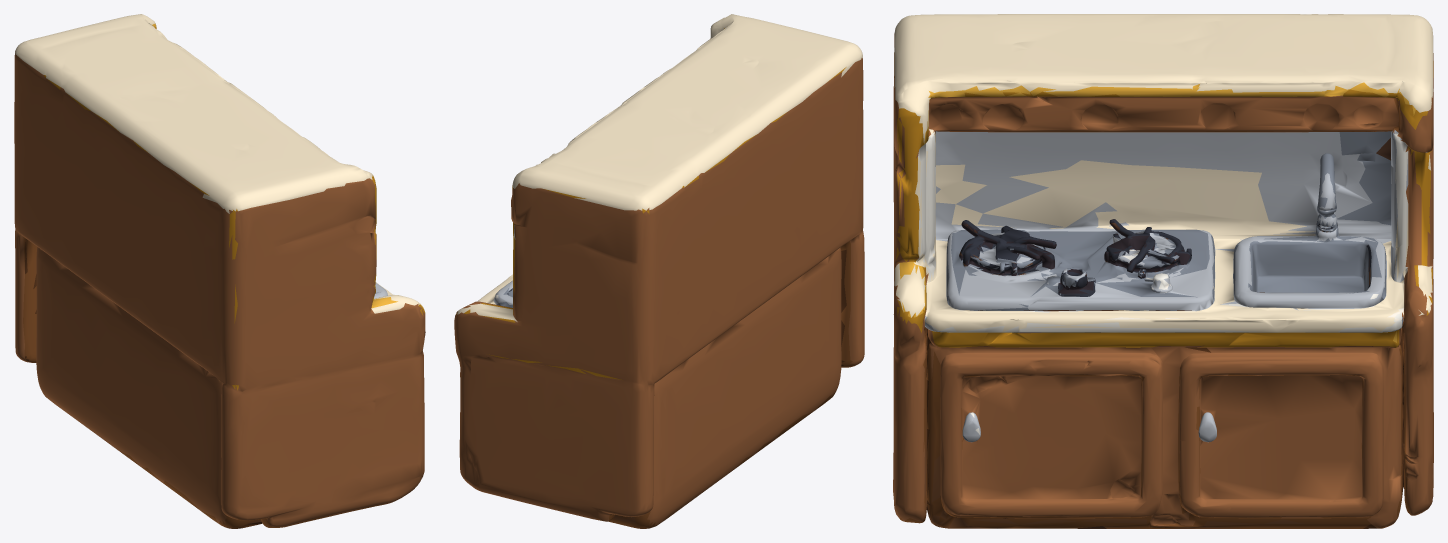
File: SM_kitchen_unit_wood.glb
3 renders of one model, left to right at view 1: azimuth 30°, elevation 25°; view 2: azimuth 150°, elevation 25°; view 3: azimuth 270°, elevation 25°, orthographic. The views are drawn at different scales.
Visible parts, largest first — view 1: SM_kitchen_unit_wood; view 2: SM_kitchen_unit_wood; view 3: SM_kitchen_unit_wood.
Boxes of the visible parts, x1,y1,x2,y2 form: SM_kitchen_unit_wood: (14,14,425,528); SM_kitchen_unit_wood: (454,14,864,528); SM_kitchen_unit_wood: (893,14,1433,528).
Size of the model in its own units: 0.5665 by 0.9 by 1.06.
Materials: 1 (1 with a texture image).
